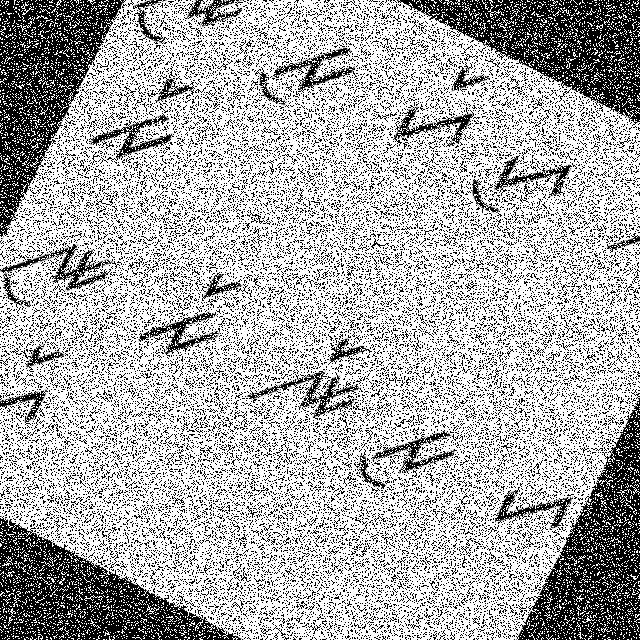ha: (469, 447, 582, 556)
har: (379, 44, 498, 171), (0, 313, 87, 458)
haw: (455, 117, 584, 246)
mbar: (126, 237, 258, 380), (82, 48, 209, 184)
mbaw: (238, 1, 368, 134), (344, 388, 471, 523)
nda: (596, 181, 639, 306)
ndar: (237, 294, 387, 448)
ndaw: (0, 206, 124, 342), (121, 0, 260, 78)
